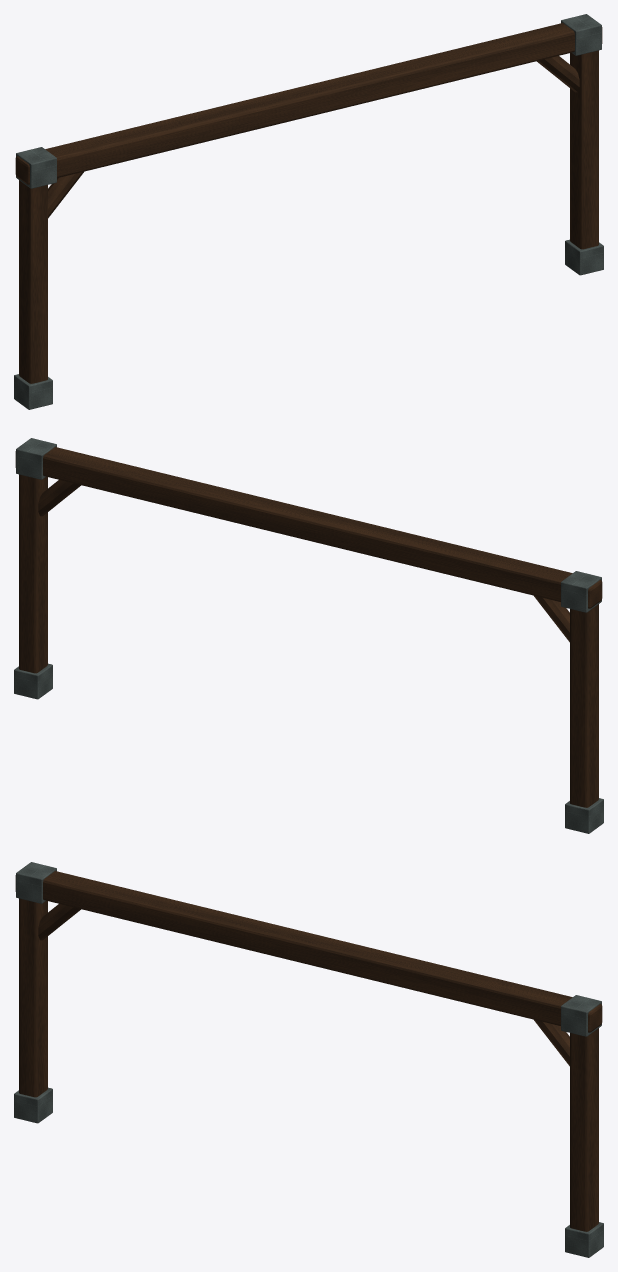
Rendered from support.glb.
The picture shows the model from 3 angles, top to bottom: view 1: azimuth 30°, elevation 25°; view 2: azimuth 150°, elevation 25°; view 3: azimuth 330°, elevation 25°; orthographic projection.
Visible parts, largest first — view 1: Mine support.004, Support shoe.004; view 2: Mine support.004, Support shoe.004; view 3: Mine support.004, Support shoe.004.
Part boxes in pixels (left/top/right/bottom): Mine support.004: left=15, top=23, right=602, bottom=383; Support shoe.004: left=14, top=14, right=603, bottom=409; Mine support.004: left=15, top=447, right=602, bottom=807; Support shoe.004: left=14, top=438, right=603, bottom=833; Mine support.004: left=15, top=871, right=602, bottom=1231; Support shoe.004: left=14, top=862, right=603, bottom=1257.
Bounding box in the file's own units: 9.4 × 3.83 × 0.44.
Materials: 2 (2 with a texture image).
